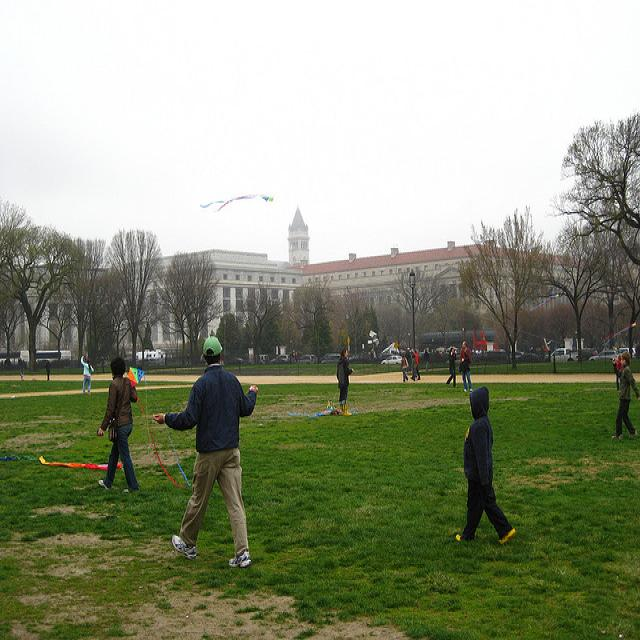Vehicle: (422, 346, 449, 363), (550, 348, 578, 363), (36, 349, 60, 362), (590, 350, 616, 360), (380, 354, 402, 365), (294, 354, 318, 364), (320, 353, 341, 364), (271, 354, 290, 365)
